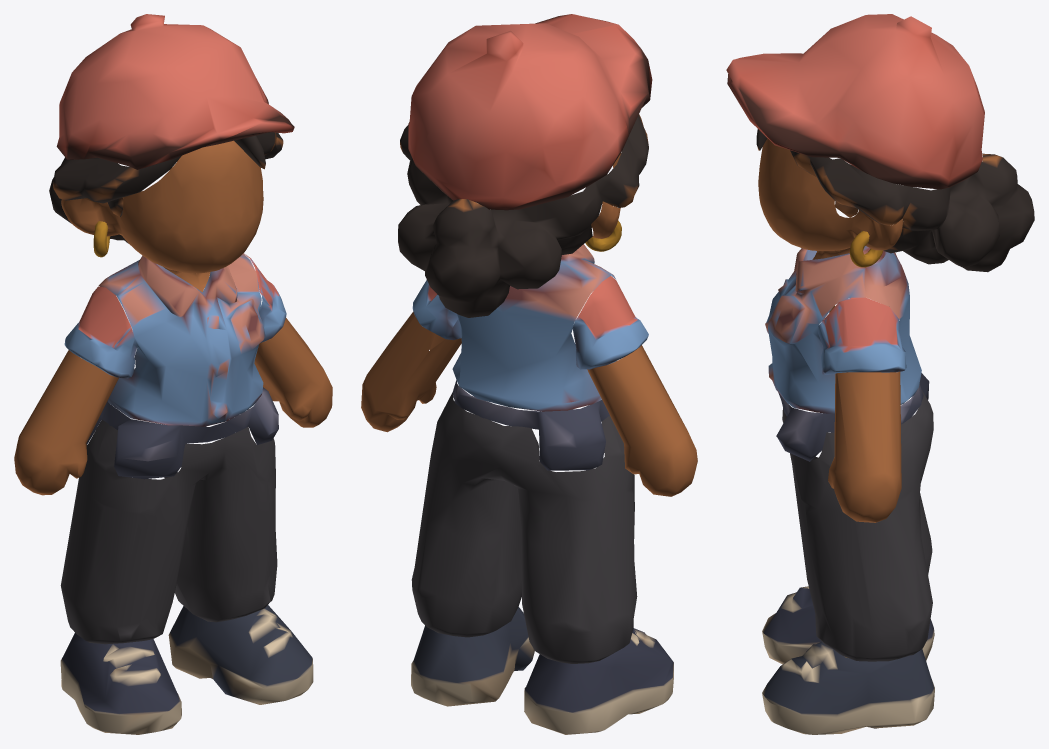
3 views of the same model, side by side, from view 1: azimuth 30°, elevation 25°; view 2: azimuth 150°, elevation 25°; view 3: azimuth 270°, elevation 25° (orthographic). The views are drawn at different scales.
Visible parts, largest first — view 1: bottom, top, acc_head_0, head, shoe_l, shoe_r, hand_r, hair, hand_l, sleeve_r, sleeve_l; view 2: bottom, acc_head_0, top, hair, shoe_r, hand_r, shoe_l, hand_l, sleeve_r, sleeve_l, head; view 3: acc_head_0, bottom, top, hair, shoe_l, hand_l, head, sleeve_l, shoe_r, acc_head_earl.
Part boxes in pixels (box(x1,y1,x2,y2)): bottom: box(60, 409, 277, 644); top: box(86, 253, 278, 479); acc_head_0: box(56, 14, 294, 169); head: box(61, 140, 263, 291); shoe_l: box(168, 605, 313, 704); shoe_r: box(60, 633, 181, 734); hand_r: box(14, 350, 118, 495); hair: box(49, 132, 283, 243); hand_l: box(254, 318, 332, 427); sleeve_r: box(64, 286, 137, 378); sleeve_l: box(244, 253, 286, 342); bottom: box(411, 392, 637, 663); acc_head_0: box(408, 14, 652, 210); top: box(452, 244, 616, 470); hair: box(398, 114, 648, 317); shoe_r: box(524, 628, 673, 734); hand_r: box(587, 345, 697, 496); shoe_l: box(411, 607, 534, 706); hand_l: box(361, 311, 461, 432); sleeve_r: box(572, 276, 648, 369); sleeve_l: box(412, 280, 461, 340); head: box(591, 153, 621, 238); acc_head_0: box(726, 14, 984, 189); bottom: box(782, 390, 933, 661); top: box(765, 231, 929, 461); hair: box(756, 129, 1034, 272); shoe_l: box(762, 641, 934, 734); hand_l: box(828, 371, 901, 522); head: box(758, 138, 902, 259); sleeve_l: box(818, 297, 906, 374); shoe_r: box(762, 586, 934, 664); acc_head_earl: box(849, 231, 882, 267).
Size of the model in its own units: 0.5118 by 1.03 by 0.4309.
